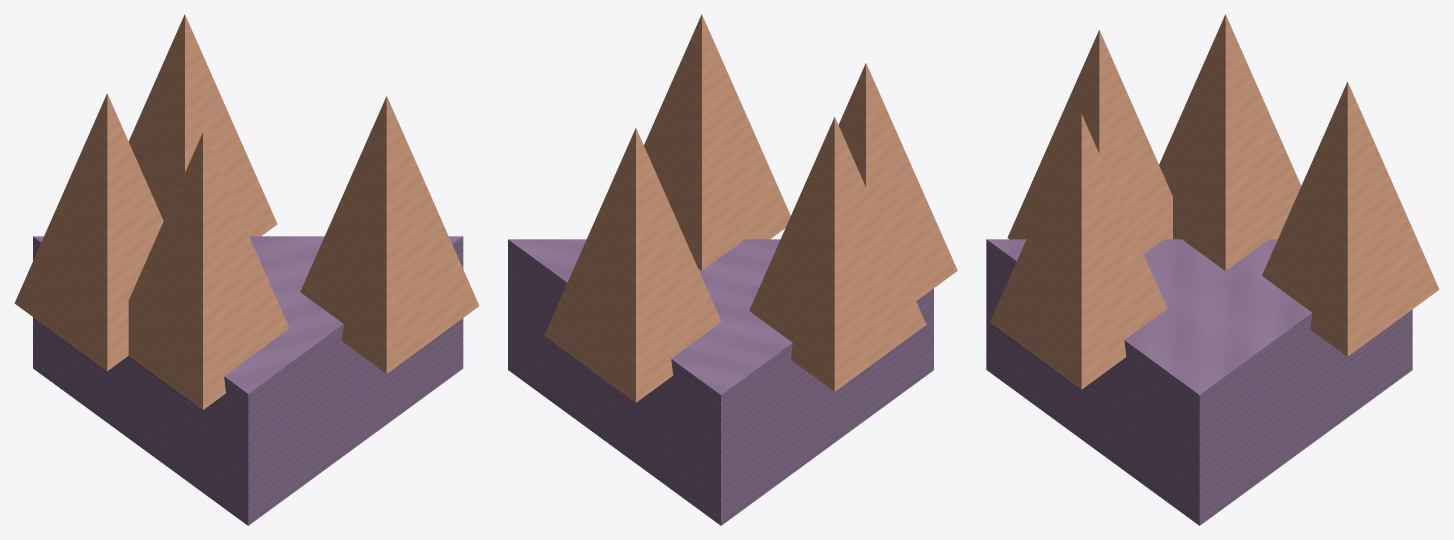
The model's file is atlas100-s081-a12.lod1.glb.
3 views of the same model, side by side, from view 1: azimuth 30°, elevation 25°; view 2: azimuth 150°, elevation 25°; view 3: azimuth 270°, elevation 25° (orthographic).
Parts seen in each view (by area): view 1: atlas100-s081-a12:part-000, atlas100-s081-a12:part-004, atlas100-s081-a12:part-002, atlas100-s081-a12:part-005, atlas100-s081-a12:part-003; view 2: atlas100-s081-a12:part-000, atlas100-s081-a12:part-005, atlas100-s081-a12:part-003, atlas100-s081-a12:part-004, atlas100-s081-a12:part-002; view 3: atlas100-s081-a12:part-000, atlas100-s081-a12:part-004, atlas100-s081-a12:part-003, atlas100-s081-a12:part-005, atlas100-s081-a12:part-002.
Boxes of the visible parts, left/top/right/bottom form: atlas100-s081-a12:part-000: left=33, top=236, right=463, bottom=525; atlas100-s081-a12:part-004: left=300, top=96, right=479, bottom=373; atlas100-s081-a12:part-002: left=128, top=132, right=289, bottom=409; atlas100-s081-a12:part-005: left=14, top=93, right=163, bottom=371; atlas100-s081-a12:part-003: left=128, top=14, right=277, bottom=236; atlas100-s081-a12:part-000: left=508, top=239, right=933, bottom=525; atlas100-s081-a12:part-005: left=749, top=117, right=926, bottom=391; atlas100-s081-a12:part-003: left=544, top=128, right=721, bottom=402; atlas100-s081-a12:part-004: left=644, top=14, right=790, bottom=270; atlas100-s081-a12:part-002: left=838, top=63, right=957, bottom=300; atlas100-s081-a12:part-000: left=986, top=239, right=1412, bottom=525; atlas100-s081-a12:part-004: left=990, top=114, right=1167, bottom=389; atlas100-s081-a12:part-003: left=1262, top=81, right=1439, bottom=356; atlas100-s081-a12:part-005: left=1159, top=14, right=1301, bottom=270; atlas100-s081-a12:part-002: left=1007, top=30, right=1172, bottom=253.
Bounding box in the file's own units: 1.05 × 0.9 × 1.07.
Materials: 2 (2 with a texture image).
